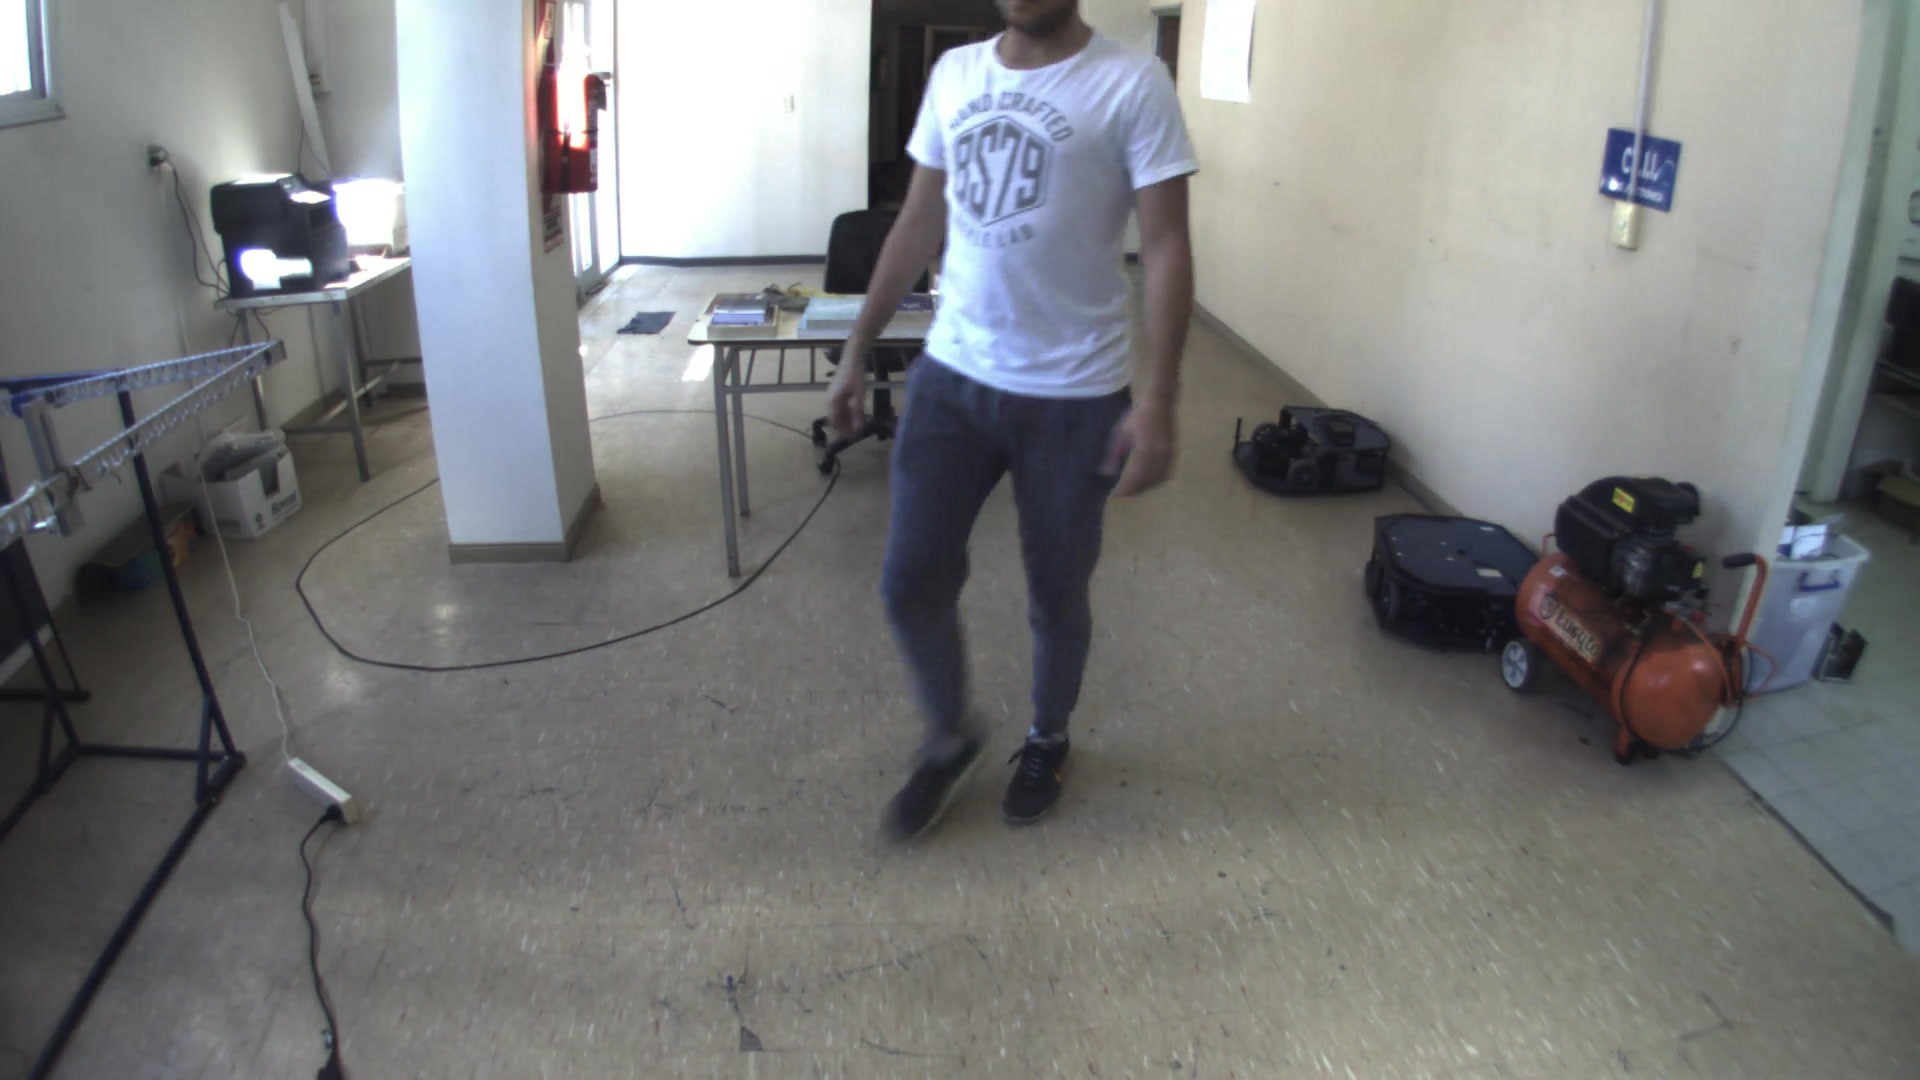hand: (1102, 386, 1189, 493), (818, 342, 884, 448)
